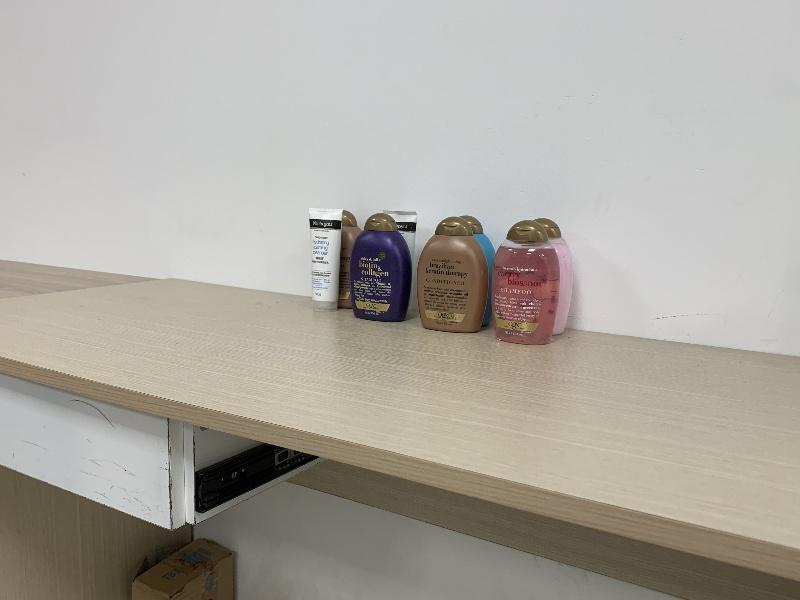BiotinCollagen_Shampoo: (350, 213, 411, 323)
BrazilianKerationTherapy_Conditioner: (417, 217, 489, 333)
CherryBlossom_Shampoo: (492, 220, 560, 345)
HydratingFoamingCleanser: (308, 208, 342, 312)
